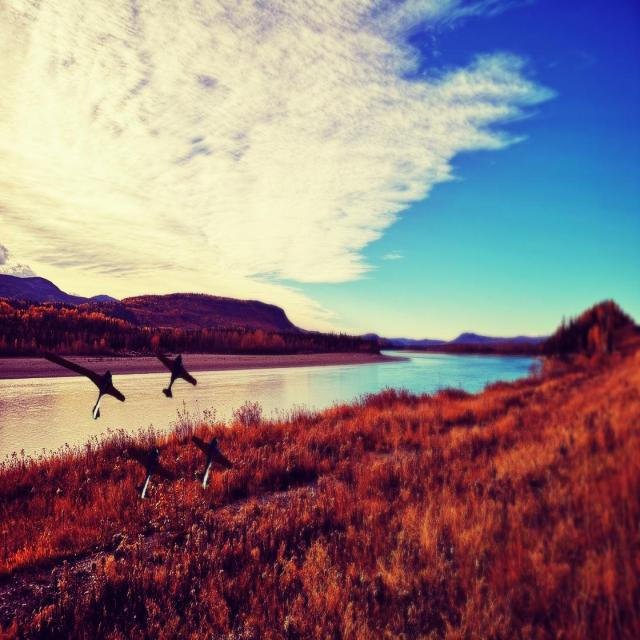airplane: (42, 347, 126, 418), (126, 440, 178, 497), (190, 432, 234, 490), (154, 346, 199, 400)
